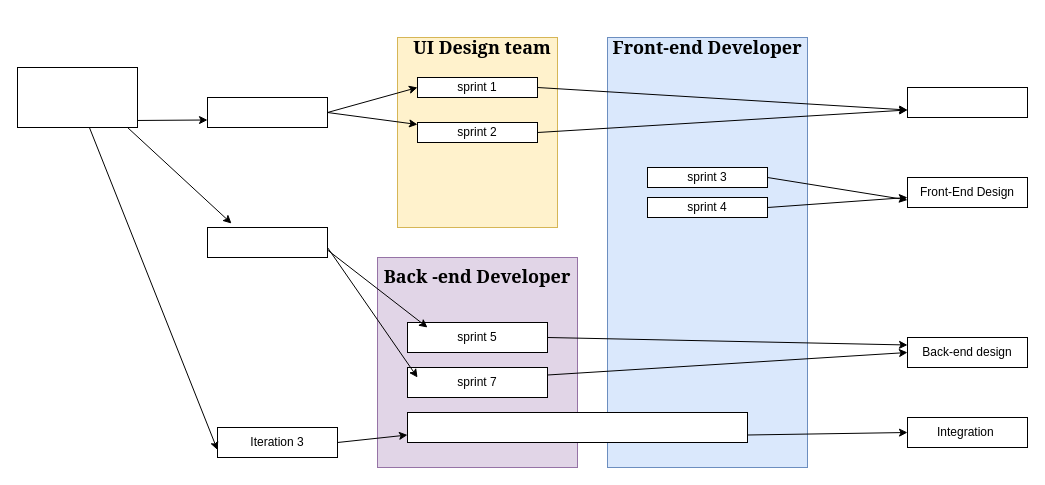
Image size: 1045x485. Some labels were removed from this diagram. The box of each missing label's shape, as (x1, y1, x2, y2) in pixels:
car Rental: (16, 66, 138, 128)
Iteration 1: (206, 96, 328, 128)
Iteration 2: (206, 226, 328, 258)
sprint 8: (406, 412, 748, 442)
UI prototype: (906, 86, 1028, 118)
